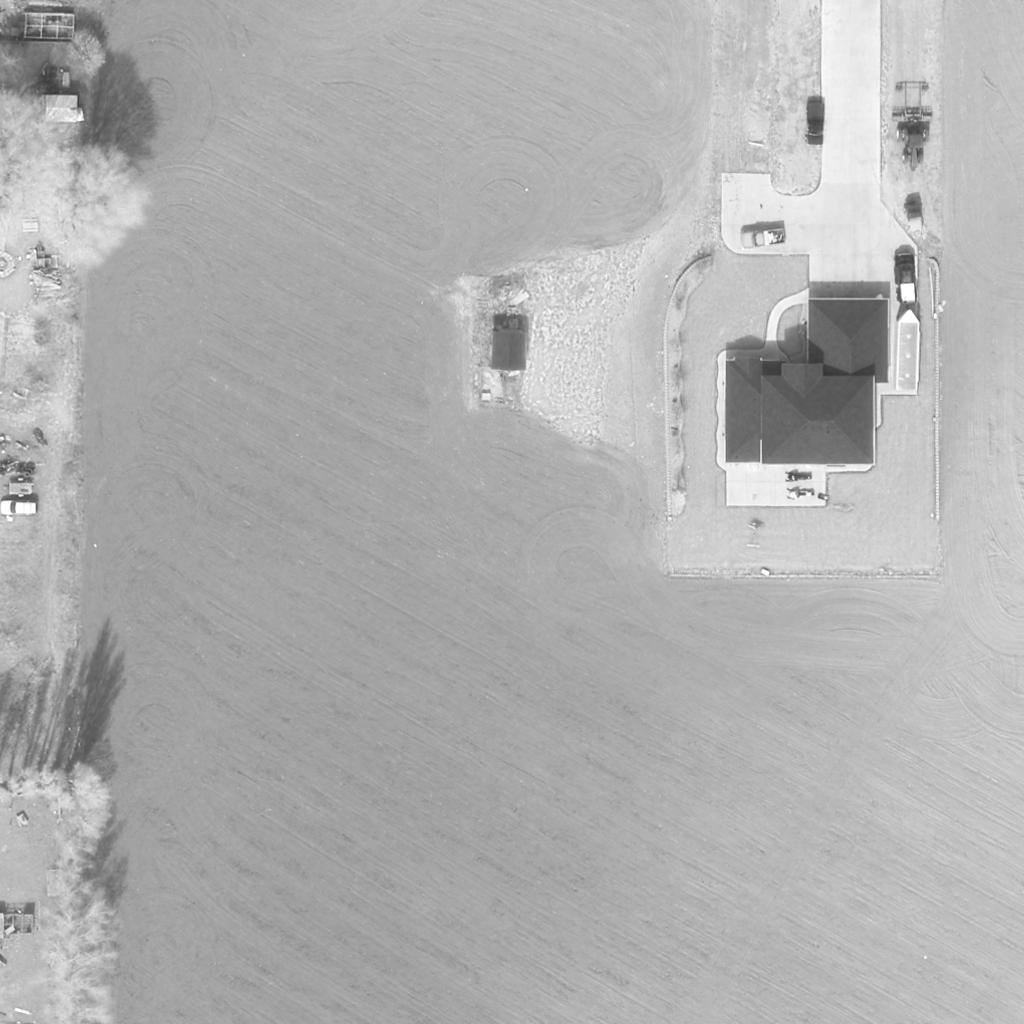vehicle: (896, 309, 922, 395), (895, 127, 931, 171), (893, 251, 919, 305), (739, 227, 787, 251), (803, 101, 827, 147), (2, 499, 38, 517)
